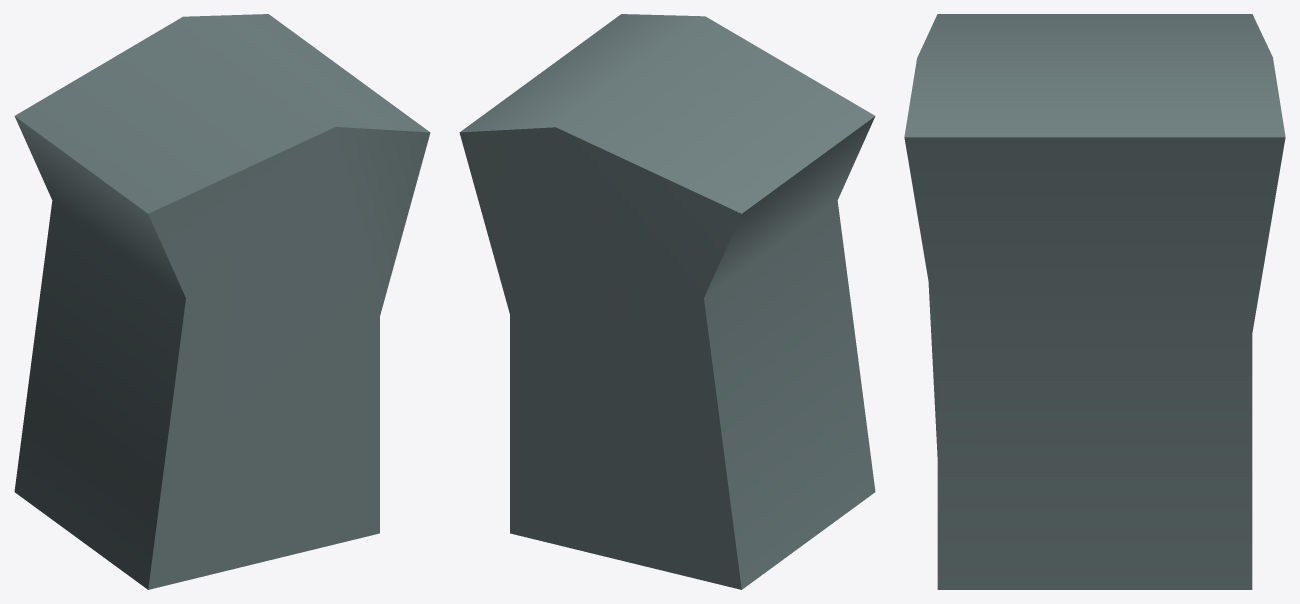
The model's file is floor3.fbx.
3 views of the same model, side by side, from view 1: azimuth 30°, elevation 25°; view 2: azimuth 150°, elevation 25°; view 3: azimuth 270°, elevation 25° (orthographic). The views are drawn at different scales.
Visible parts, largest first — view 1: pCube1; view 2: pCube1; view 3: pCube1.
Boxes of the visible parts, x1,y1,x2,y2 form: pCube1: (14,14,430,589); pCube1: (459,14,875,589); pCube1: (904,14,1285,589).
Size of the model in its own units: 1.16 by 1.76 by 1.21.
